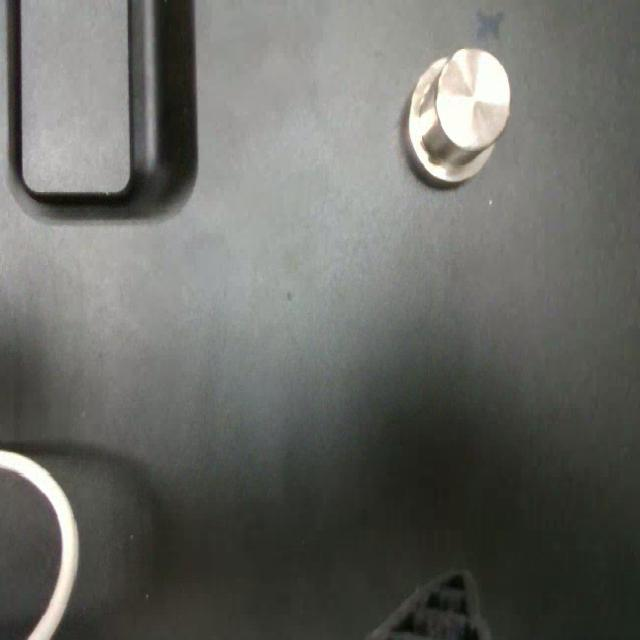sensor: (405, 47, 511, 185)
